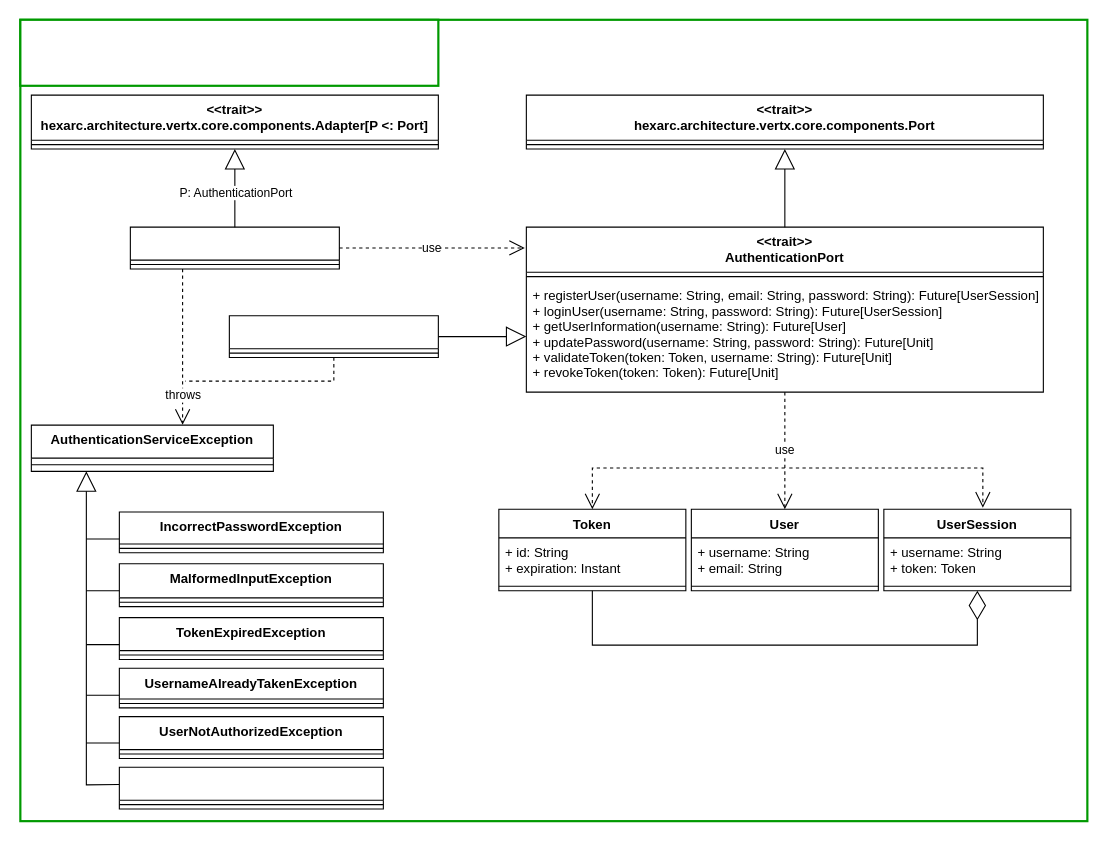
The diagram is 1107 pixels wide and 842 high, and some of its shapes have lost their labels. The shapes that lost their labels are listed below. From the top down, each one's centre as x and y in pixels, then its label:
the point at 229,52: Authentication Service
the point at 234,247: AuthenticationHttpAdapter
the point at 333,336: AuthenticationModel
the point at 250,787: UserNotFoundException
